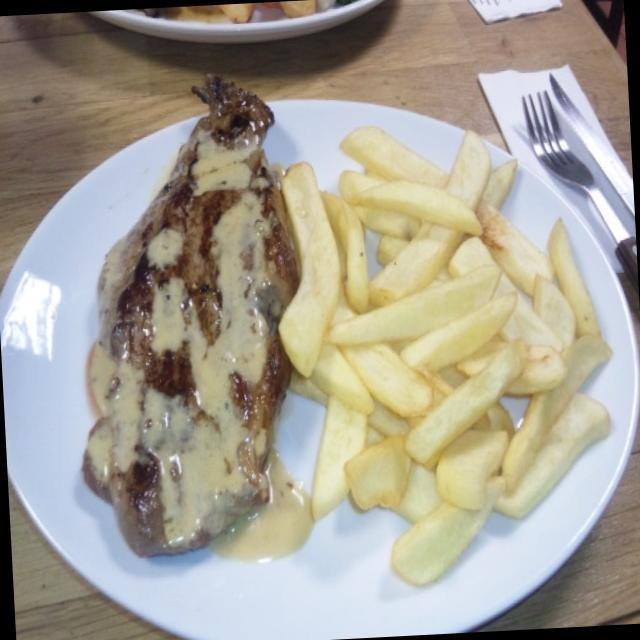French Fries: (276, 107, 624, 575)
